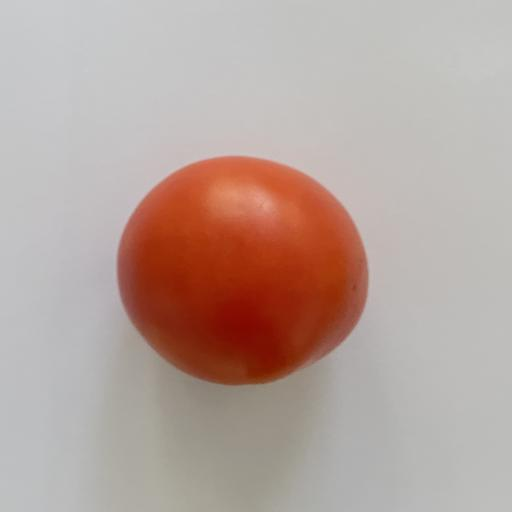ripe: (118, 157, 368, 385)
